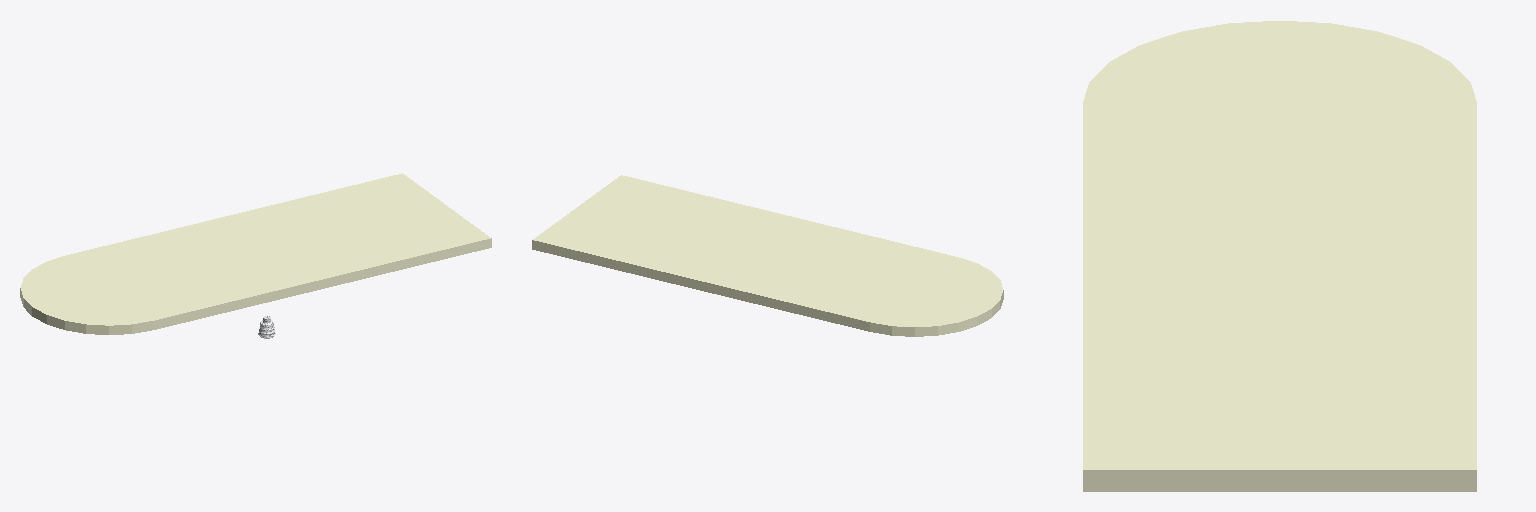
robot.urdf — right-pull-door:
<?xml version="1.0" ?>
<robot name="right-pull-door">
	<link name="base"/>
	<link name="link_0">
		<visual name="out-frame">
			<origin xyz="0 0 0"/>
			<geometry>
				<mesh filename="texture_dae/frame.dae" scale="0.8105978869833348 0.8105978869833348 0.8105978869833348"/>
			</geometry>
		</visual>
		<collision>
			<origin xyz="0 0 0"/>
			<geometry>
				<mesh filename="texture_dae/frame.dae" scale="0.8105978869833348 0.8105978869833348 0.8105978869833348"/>
			</geometry>
		</collision>
	</link>
	<joint name="joint_0" type="fixed">
		<origin rpy="1.570796326794897 0 -1.570796326794897" xyz="0 0 0"/>
		<child link="link_0"/>
		<parent link="base"/>
	</joint>
	<link name="link_1">
		<visual name="surf-board">
			<origin xyz="0.34045843184573876 -0.9085475121860572 0"/>
			<geometry>
				<mesh filename="texture_dae/board.dae" scale="0.8105978869833348 0.8105978869833348 0.8105978869833348"/>
			</geometry>
		</visual>
		<collision>
			<origin xyz="0.34045843184573876 -0.9085475121860572 0"/>
			<geometry>
				<mesh filename="texture_dae/board.dae" scale="0.8105978869833348 0.8105978869833348 0.8105978869833348"/>
			</geometry>
		</collision>
	</link>
	<joint name="joint_1" type="revolute">
		<origin xyz="-0.34045843184573876 0.9085475121860572 0"/>
		<axis xyz="0 -1 0"/>
		<child link="link_1"/>
		<parent link="link_0"/>
		<limit lower="0" upper="1.5079644737231006"/>
	</joint>
	<link name="link_2">
		<visual name="handle">
			<origin xyz="0 0 0"/>
			<geometry>
				<mesh filename="texture_dae/9962035.dae" scale="2.7927944435746386 2.7927944435746386 2.7927944435746386"/>
			</geometry>
		</visual>
		<collision>
			<origin xyz="0 0 0"/>
			<geometry>
				<mesh filename="texture_dae/9962035.dae" scale="2.7927944435746386 2.7927944435746386 2.7927944435746386"/>
			</geometry>
		</collision>
	</link>
	<joint name="joint_2" type="revolute">
		<origin xyz="0.6009021948212745 -1.0346759942566868 0.02072758424708736"/>
		<child link="link_2"/>
		<parent link="link_1"/>
		<axis xyz="0 0 1"/>
		<limit lower="0" upper="1.5079644737231006"/>
	</joint>
</robot>

--- What the picture shows (computed from the rendered views, not written in the file) ---
The picture shows the robot from 3 angles, left to right: view 1: azimuth 30°, elevation 25°; view 2: azimuth 150°, elevation 25°; view 3: azimuth 270°, elevation 25°; orthographic projection.
Model right-pull-door with 4 links and 3 joints (2 revolute, 1 fixed), rooted at base, posed all joints at 0.
Links seen in each view (by area): view 1: link_1; view 2: link_1; view 3: link_1.
Link boxes in pixels (x1,y1,x2,y2): link_1: (20,173,491,334); link_1: (532,175,1003,336); link_1: (1083,21,1476,491).
Size in the robot's own frame: 1.83 by 0.6809 by 0.2238 metres.
Meshes: 3 distinct files referenced, 2 mesh visuals loaded (2 Collada DAE); not drawn: 1 (reference not matched to a file when rendering).
